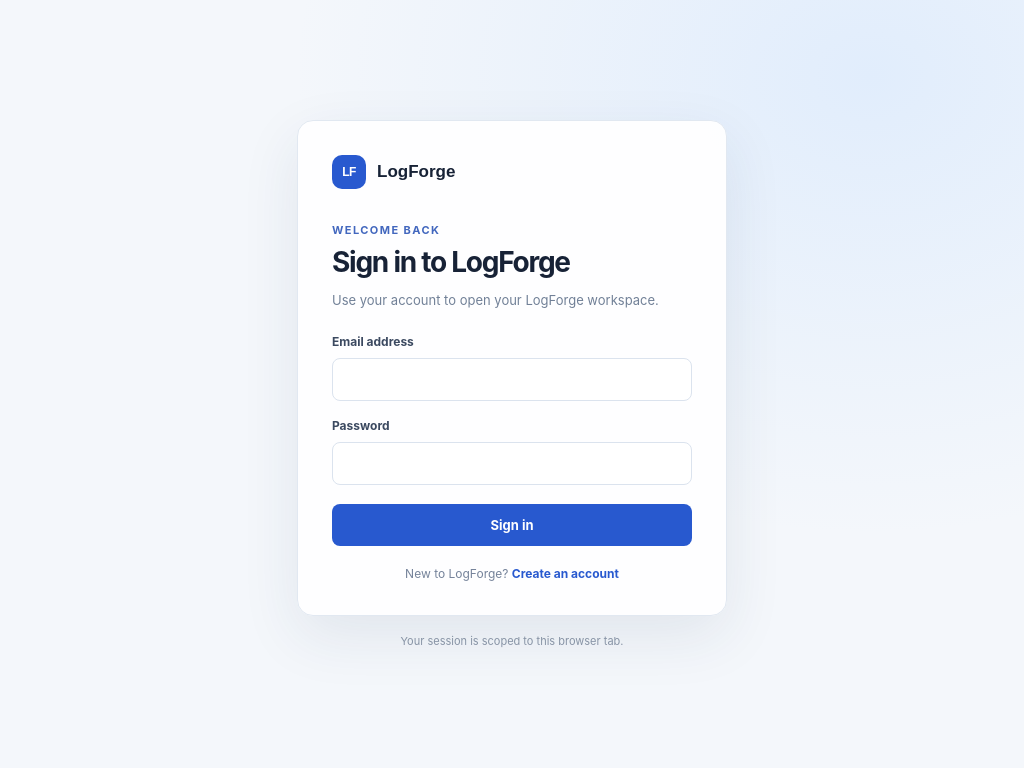
browser authentication › signs in and navigates to the dashboard
The width and height of the screenshot is (1024, 768).
Type "ada@example.test" into the field labelled "Email address" at (512, 379), box [332,358,692,401]
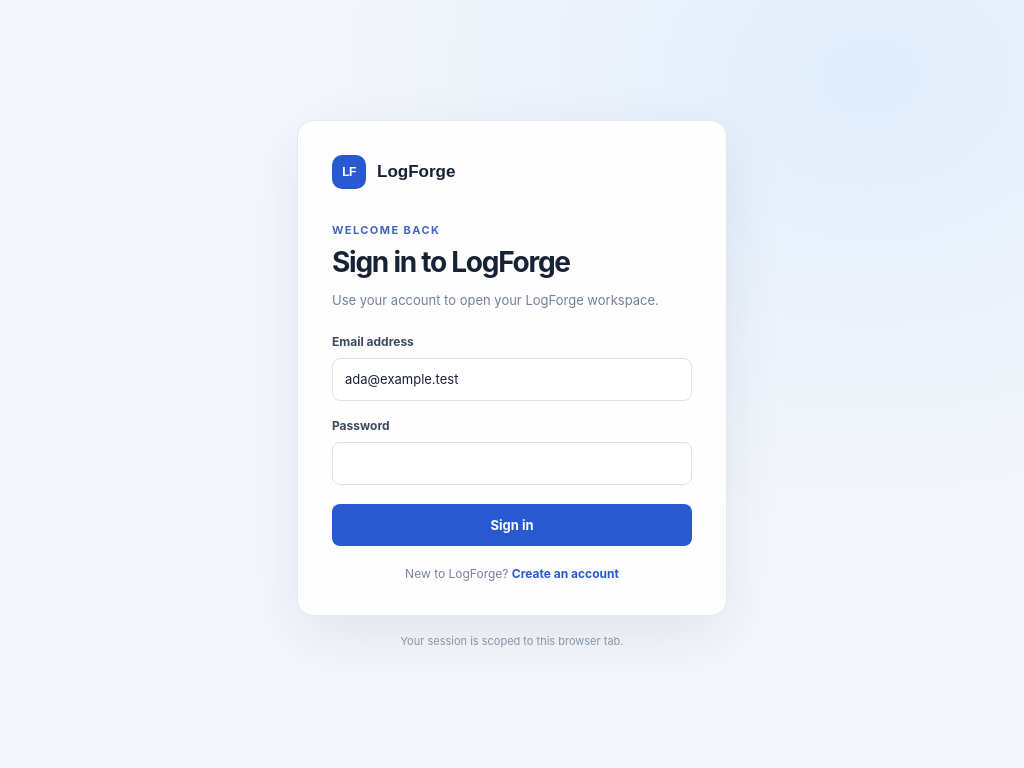
Type "correct horse battery staple" into the password field labelled "Password" at (512, 463), box [332,442,692,485]
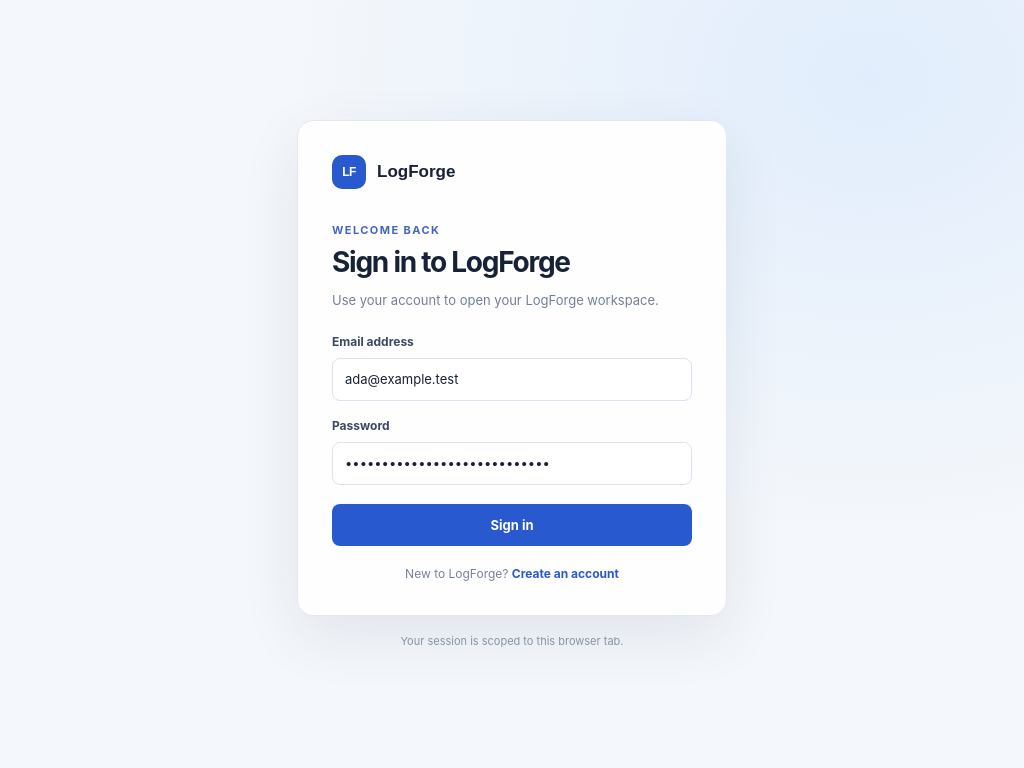
Click the button "Sign in" at (512, 525), box [332,504,692,546]
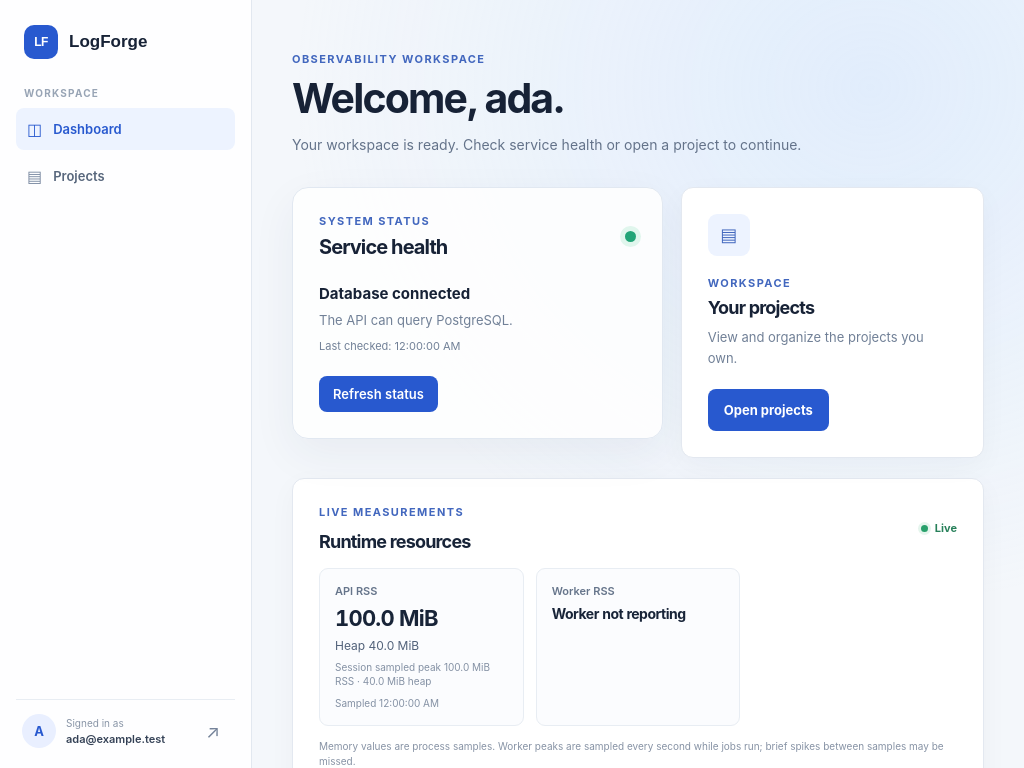
Expected: the heading "Welcome, ada." is shown, [292,73,564,123]
Expected: the text "Database connected" is shown, [319,284,470,303]
